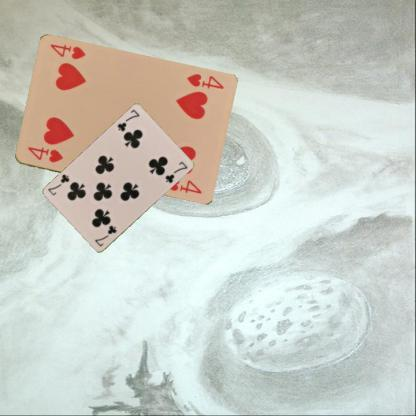4h: (184, 71, 224, 91), (25, 145, 64, 164)
7c: (92, 223, 118, 248), (115, 107, 140, 133)
